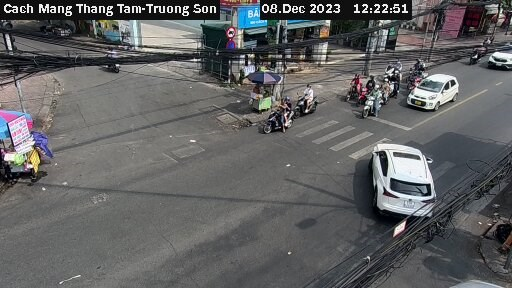car: (363, 133, 435, 216), (406, 70, 461, 108), (489, 41, 512, 75)
motorbike: (97, 44, 143, 87), (287, 80, 324, 117), (265, 99, 298, 136), (349, 90, 383, 119), (338, 70, 366, 101)
